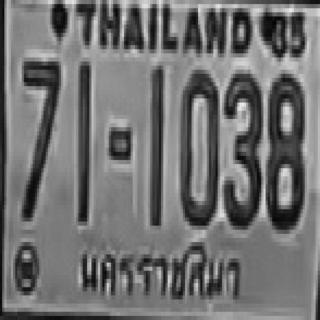N00: (178, 68, 218, 224)
N01: (148, 66, 163, 226), (76, 62, 89, 222)
N03: (222, 70, 261, 226)
N07: (22, 58, 59, 218)
N08: (266, 70, 302, 226)
P30: (77, 233, 245, 310)
